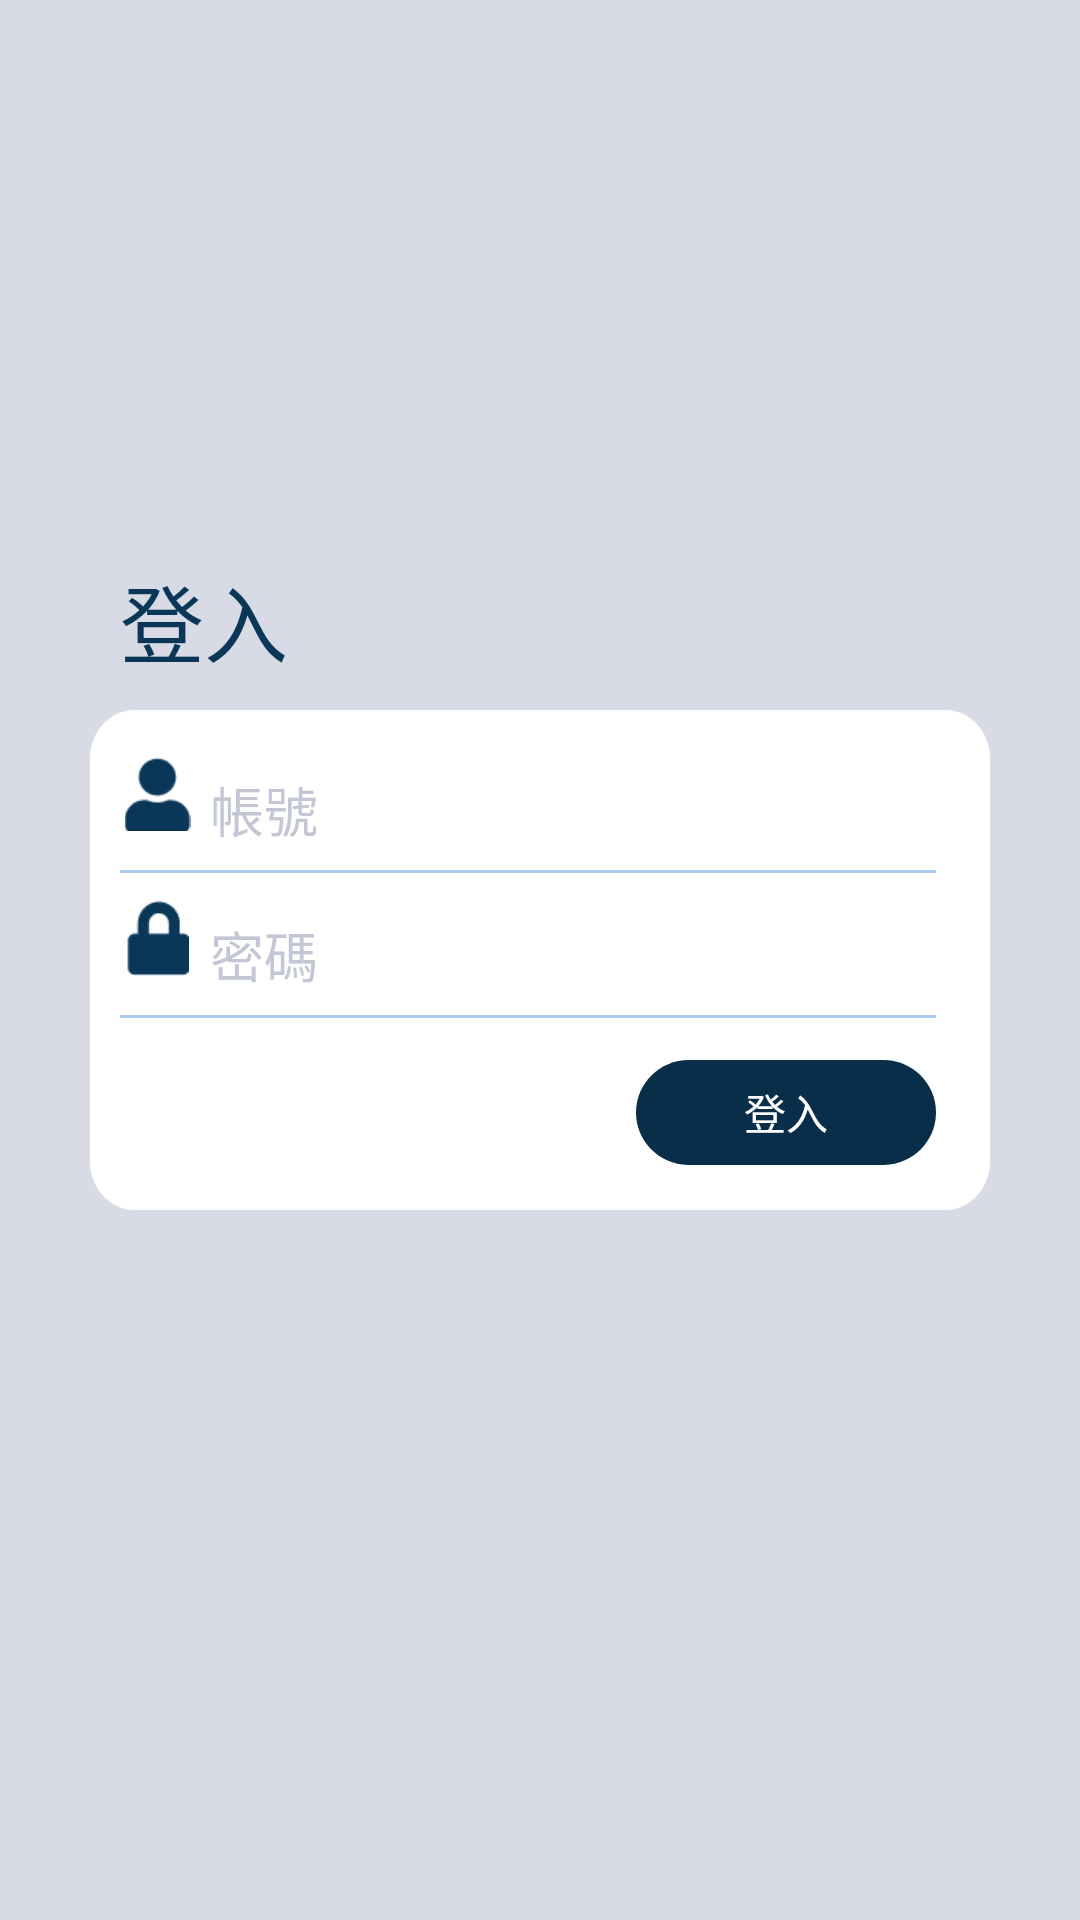

Locate icon controls on the screen. Image size 1080×1920, boxes as (x1, y1, x2, y2).
user: (125, 758, 191, 831)
